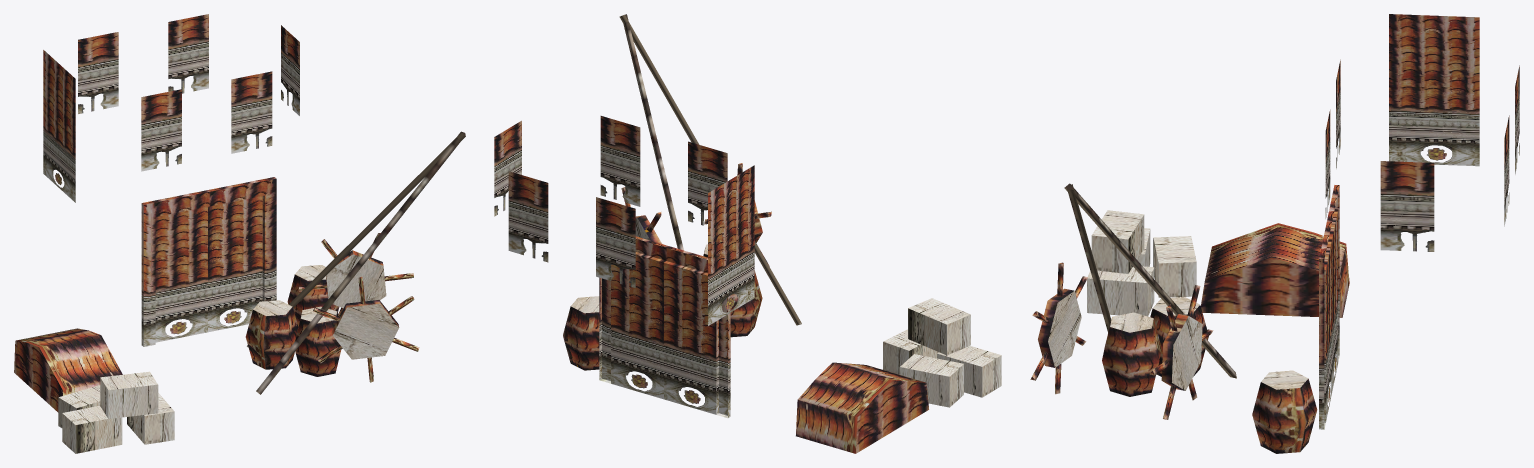
Rendered from rome_mill_props_1.dae.
3 renders of one model, left to right at view 1: azimuth 30°, elevation 25°; view 2: azimuth 150°, elevation 25°; view 3: azimuth 270°, elevation 25°, orthographic. The views are drawn at different scales.
Parts seen in each view (by area): view 1: Object08-Pivot; view 2: Object08-Pivot; view 3: Object08-Pivot.
Boxes of the visible parts, x1,y1,x2,y2 form: Object08-Pivot: [14, 14, 465, 453]; Object08-Pivot: [494, 14, 1001, 453]; Object08-Pivot: [1030, 14, 1519, 453].
Size of the model in its own units: 13.58 by 12.85 by 9.16.
